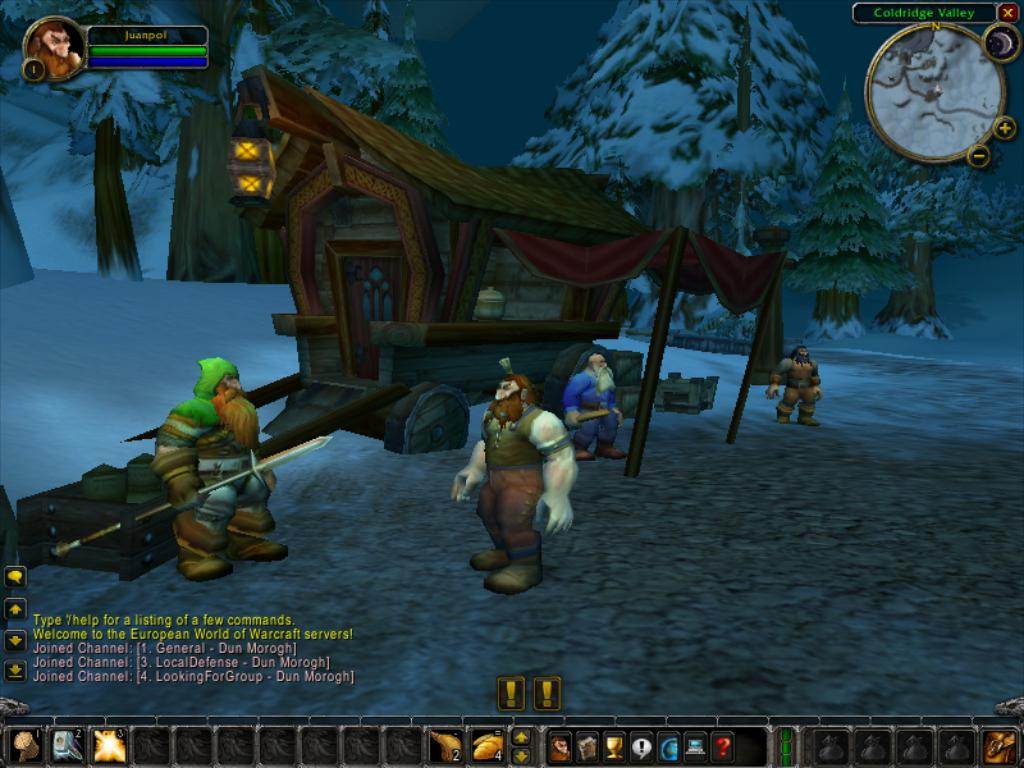Tree: (0, 0, 1024, 340)
